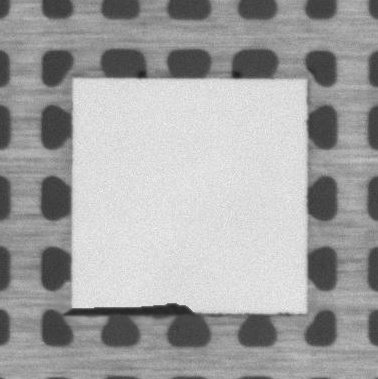DIE_BROKEN: (64, 297, 197, 316)
